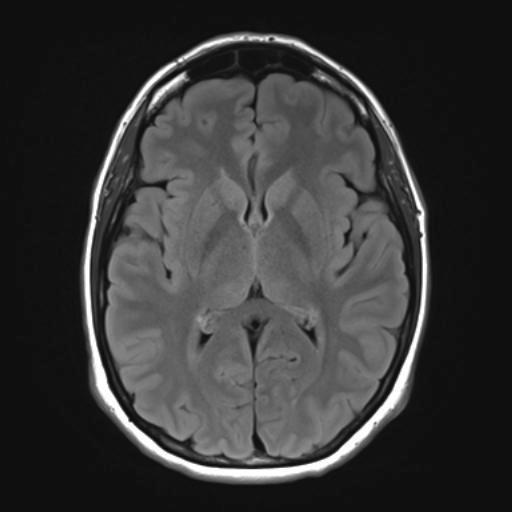Normal_Brain: (52, 1, 485, 512)
